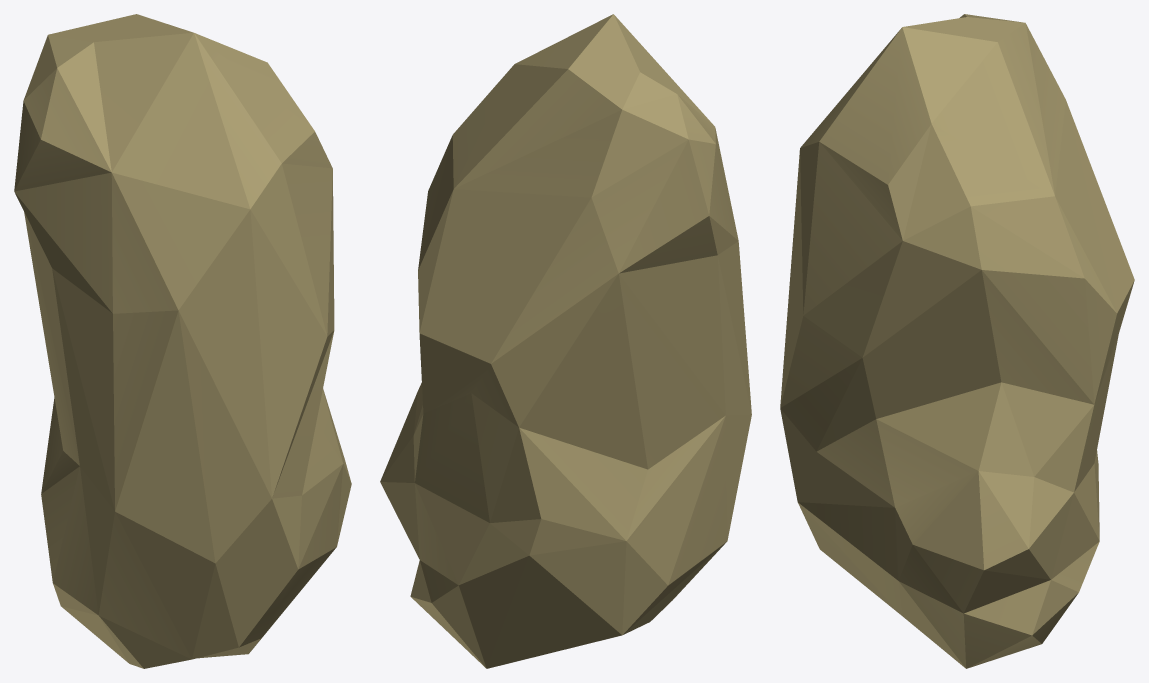
File: SM_small_rock_23.fbx
3 renders of one model, left to right at view 1: azimuth 30°, elevation 25°; view 2: azimuth 150°, elevation 25°; view 3: azimuth 270°, elevation 25°, orthographic. The views are drawn at different scales.
Visible parts, largest first — view 1: small_rock_23; view 2: small_rock_23; view 3: small_rock_23.
Boxes of the visible parts, bbox=[...] form: small_rock_23: bbox=[14, 14, 351, 668]; small_rock_23: bbox=[380, 14, 751, 668]; small_rock_23: bbox=[780, 14, 1134, 668].
Bounding box in the file's own units: 78.59 × 149 × 79.51.
